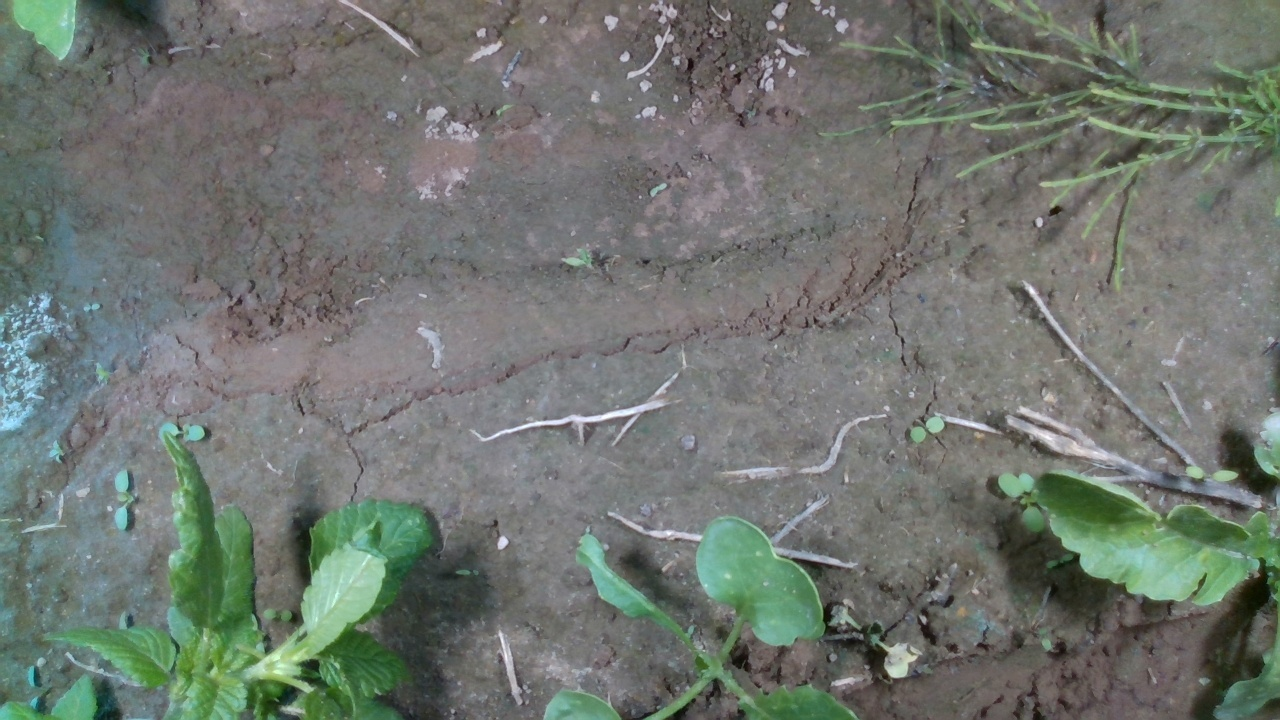weed: (908, 414, 946, 444), (113, 467, 130, 532), (1183, 463, 1239, 481), (453, 565, 482, 578), (78, 301, 102, 313)
